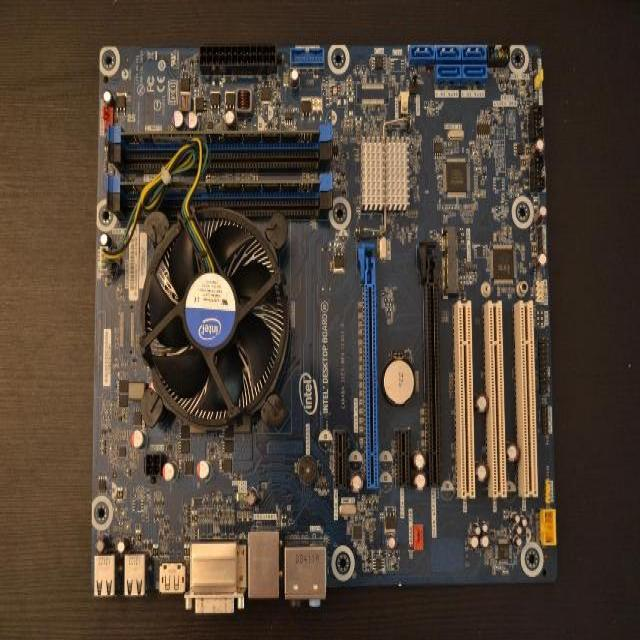CPU_Fan: (138, 206, 292, 431)
RAM: (117, 129, 320, 147)
